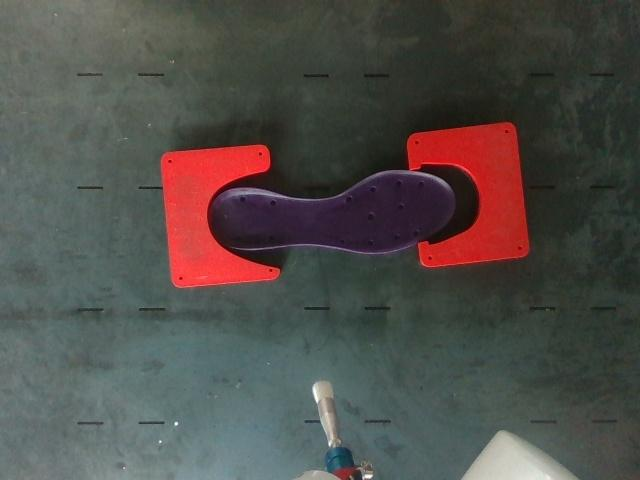shoes: (211, 170, 455, 254)
